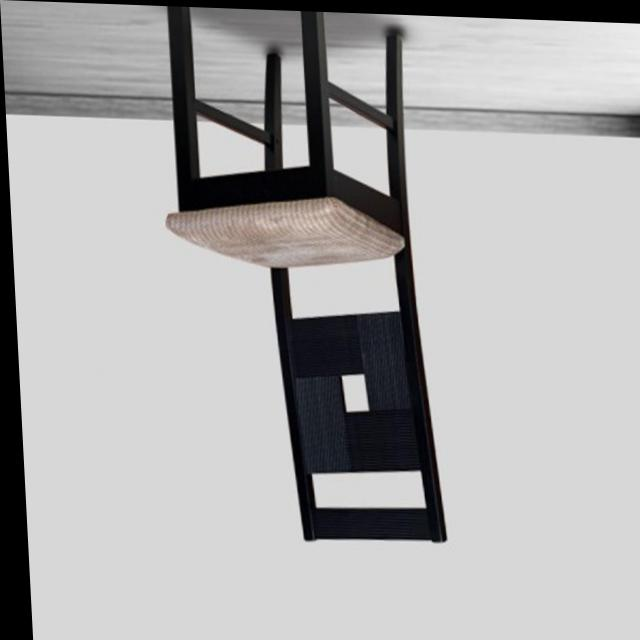Chair: (151, 4, 438, 546)
